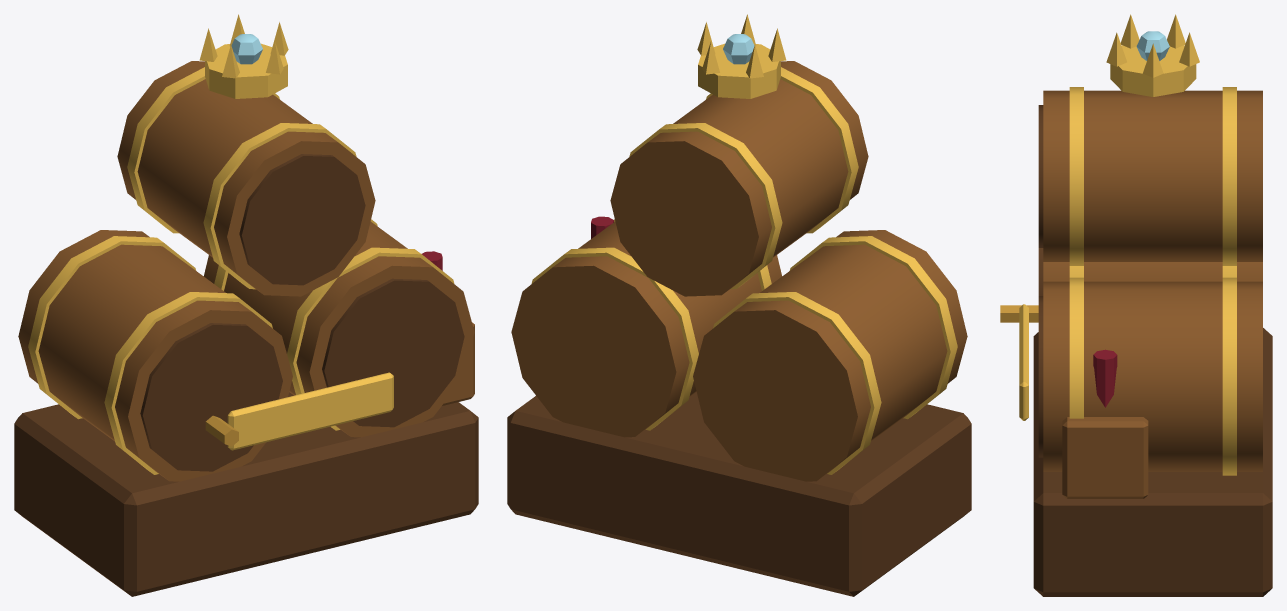
Rendered from PR_Station_Yillanmis_T3.fbx.
3 views of the same model, side by side, from view 1: azimuth 30°, elevation 25°; view 2: azimuth 150°, elevation 25°; view 3: azimuth 270°, elevation 25° (orthographic).
Parts seen in each view (by area): view 1: PR_Station_Yillanmis_T3; view 2: PR_Station_Yillanmis_T3; view 3: PR_Station_Yillanmis_T3.
Boxes of the visible parts, <box> form: PR_Station_Yillanmis_T3: <box>14,14,478,596</box>; PR_Station_Yillanmis_T3: <box>507,14,971,596</box>; PR_Station_Yillanmis_T3: <box>1000,14,1272,596</box>.
Bounding box in the file's own units: 0.88 × 1.13 × 0.57.
1 material, 1 textured.
